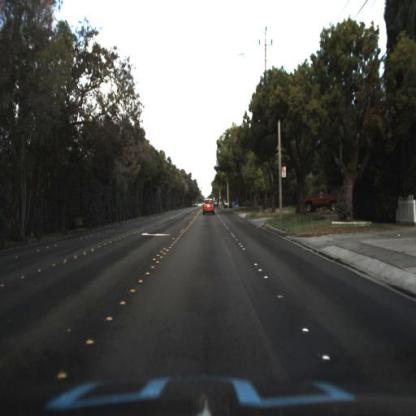car: (301, 188, 346, 214), (305, 189, 341, 214), (201, 194, 218, 223)
